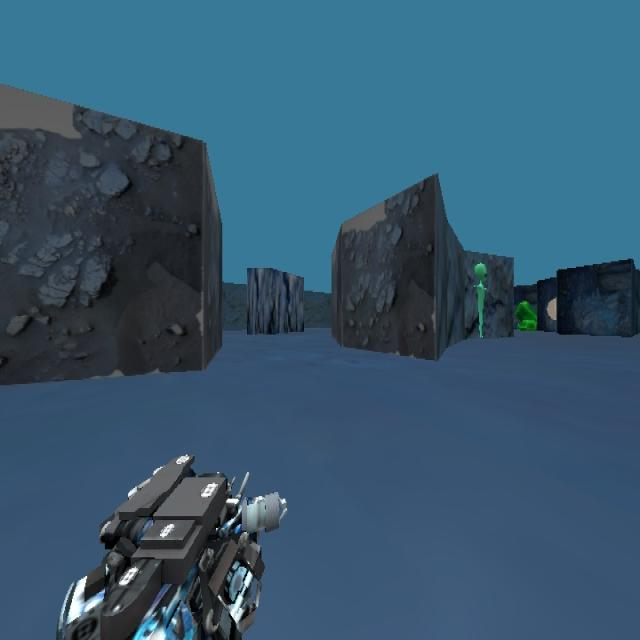Alien: (472, 260, 487, 337)
Circle: (542, 275, 574, 332)
Diamon: (518, 277, 541, 349)
